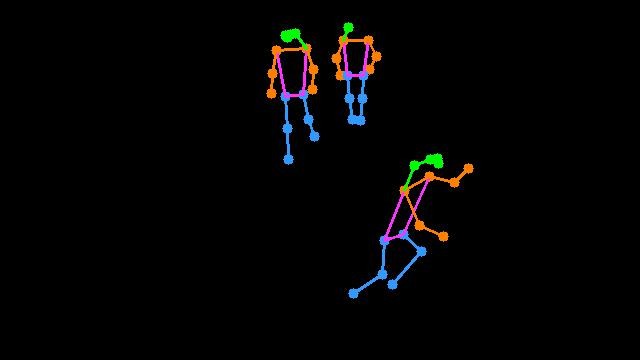normal: (256, 11, 330, 174), (324, 18, 395, 132)
